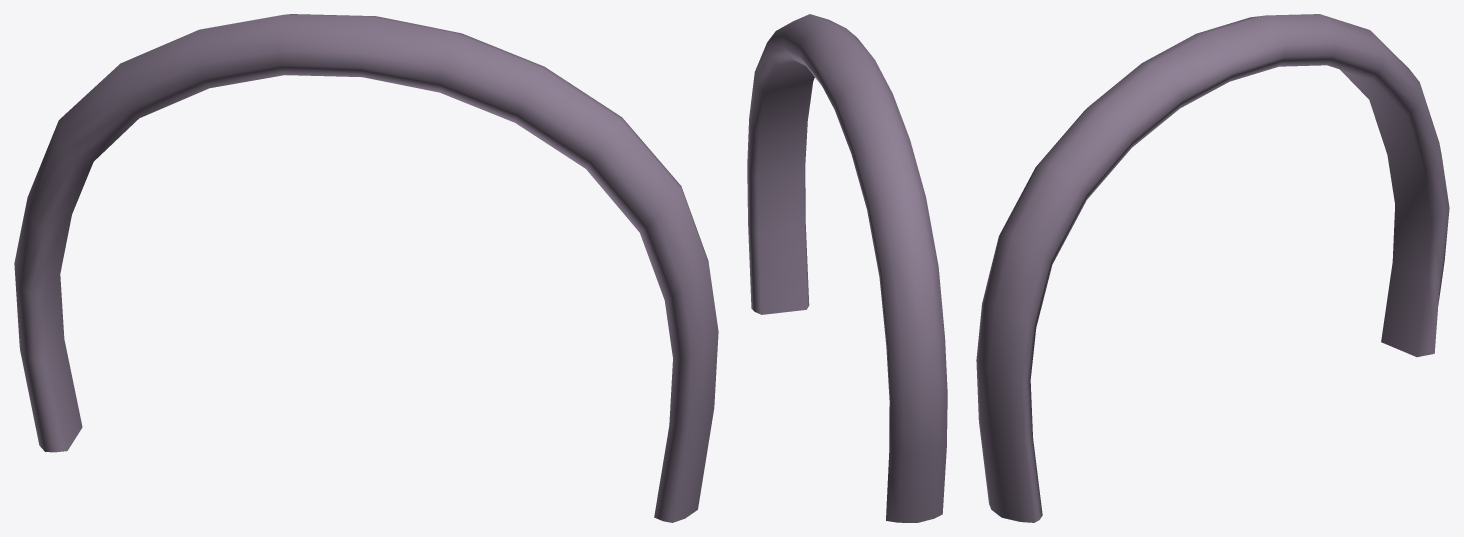
Rendered from tiedModelLeftBigNeedle.glb.
3 views of the same model, side by side, from view 1: azimuth 30°, elevation 25°; view 2: azimuth 150°, elevation 25°; view 3: azimuth 270°, elevation 25° (orthographic). The views are drawn at different scales.
Visible parts, largest first — view 1: tiedModelLeftBig; view 2: tiedModelLeftBig; view 3: tiedModelLeftBig.
Boxes of the visible parts, left/top/right/bottom form: tiedModelLeftBig: left=14, top=14, right=718, bottom=522; tiedModelLeftBig: left=747, top=14, right=947, bottom=522; tiedModelLeftBig: left=976, top=14, right=1449, bottom=522.
Bounding box in the file's own units: 1.77 × 1.64 × 1.78.
